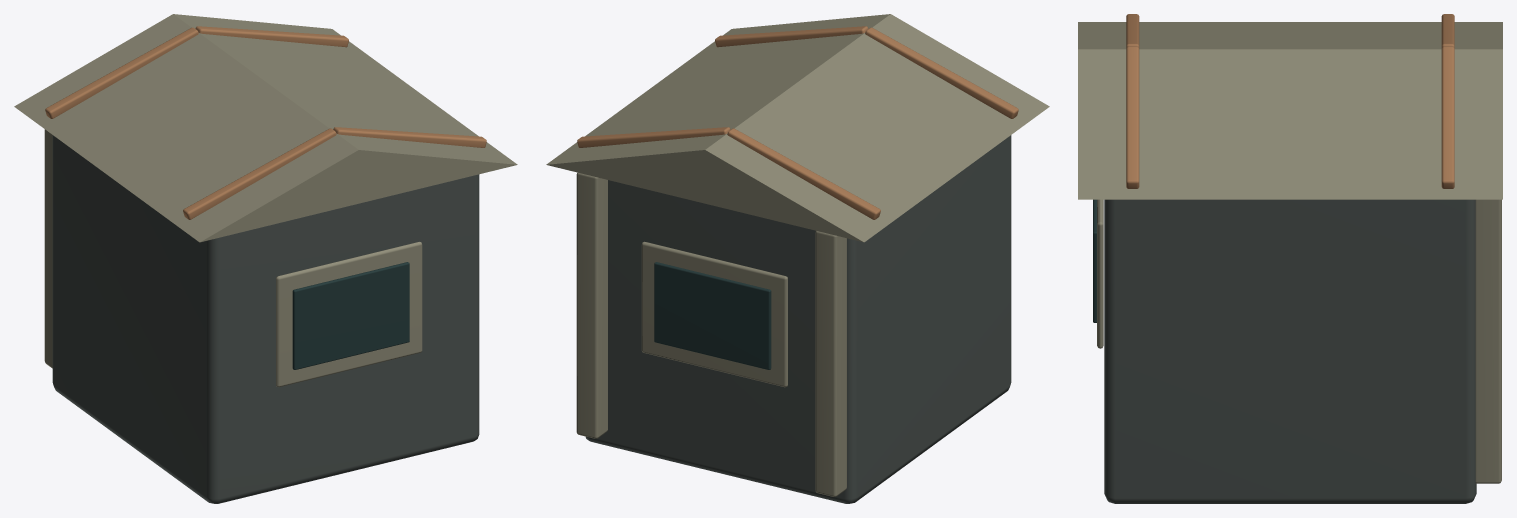
Rendered from outpost-top-1.glb.
3 views of the same model, side by side, from view 1: azimuth 30°, elevation 25°; view 2: azimuth 150°, elevation 25°; view 3: azimuth 270°, elevation 25° (orthographic). The views are drawn at different scales.
Parts seen in each view (by area): view 1: outpost_0, outpost_1, outpost_2, outpost_3; view 2: outpost_1, outpost_0, outpost_2, outpost_3; view 3: outpost_0, outpost_1, outpost_3, outpost_2.
Boxes of the visible parts, x1=… form: outpost_0: x1=52, y1=135, x2=479, y2=503; outpost_1: x1=14, y1=14, x2=517, y2=387; outpost_2: x1=292, y1=262, x2=409, y2=369; outpost_3: x1=45, y1=26, x2=486, y2=219; outpost_1: x1=546, y1=14, x2=1049, y2=496; outpost_0: x1=585, y1=135, x2=1011, y2=503; outpost_2: x1=654, y1=262, x2=771, y2=369; outpost_3: x1=577, y1=26, x2=1018, y2=219; outpost_0: x1=1104, y1=199, x2=1476, y2=503; outpost_1: x1=1078, y1=22, x2=1502, y2=483; outpost_3: x1=1126, y1=14, x2=1454, y2=188; outpost_2: x1=1093, y1=199, x2=1096, y2=322.
Bounding box in the file's own units: 0.96 × 0.9742 × 0.97.
